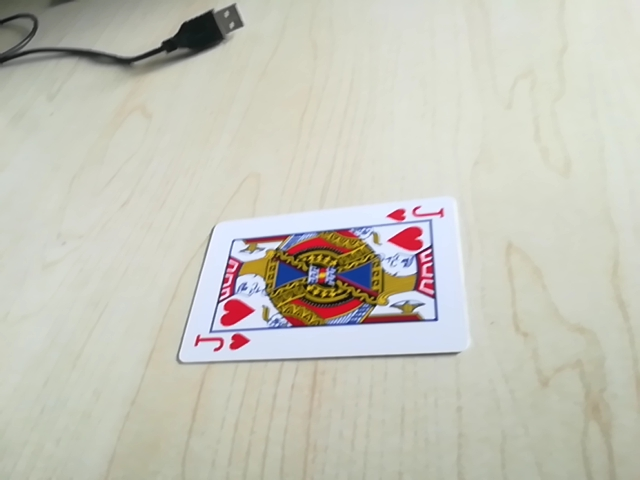hx j: (189, 330, 255, 358), (388, 199, 446, 224)
